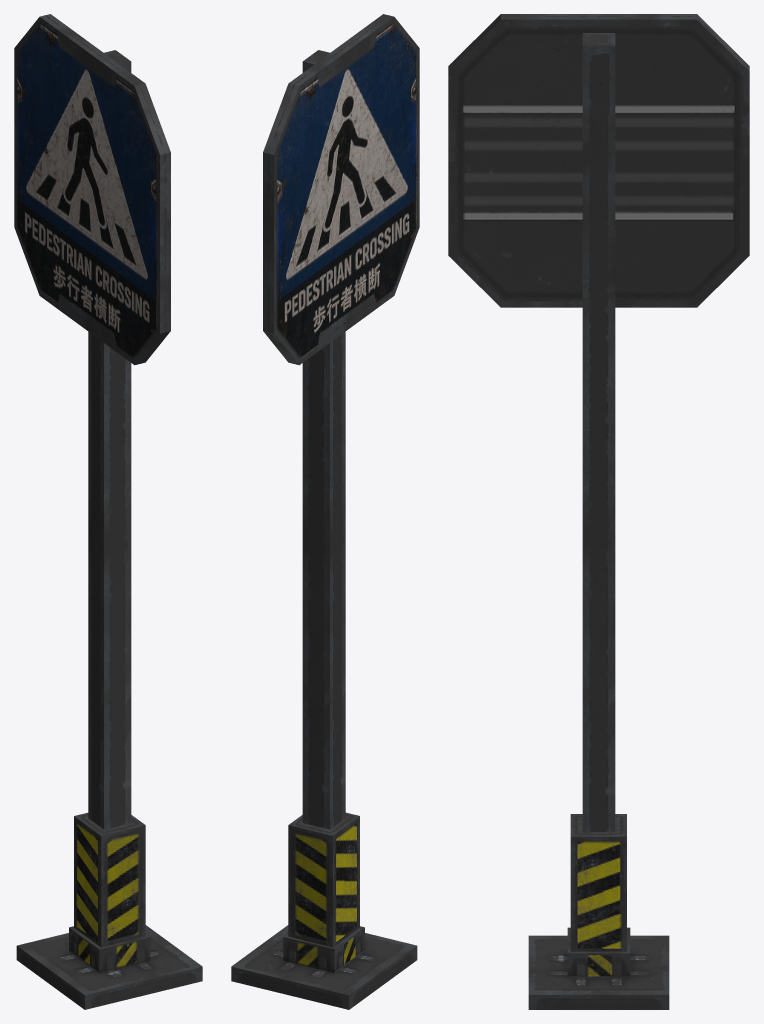
File: CP_Road_Sign_Pedestrian_Crossing.fbx
3 views of the same model, side by side, from view 1: azimuth 30°, elevation 25°; view 2: azimuth 150°, elevation 25°; view 3: azimuth 270°, elevation 25° (orthographic). The views are drawn at different scales.
Parts seen in each view (by area): view 1: CP_Road_Sign_Pedestrian_Crossing; view 2: CP_Road_Sign_Pedestrian_Crossing; view 3: CP_Road_Sign_Pedestrian_Crossing.
Boxes of the visible parts, x1=… form: CP_Road_Sign_Pedestrian_Crossing: x1=14, y1=14, x2=202, y2=1009; CP_Road_Sign_Pedestrian_Crossing: x1=231, y1=14, x2=419, y2=1009; CP_Road_Sign_Pedestrian_Crossing: x1=448, y1=14, x2=749, y2=1009.
Size of the model in its own units: 34.27 by 257 by 73.34.
